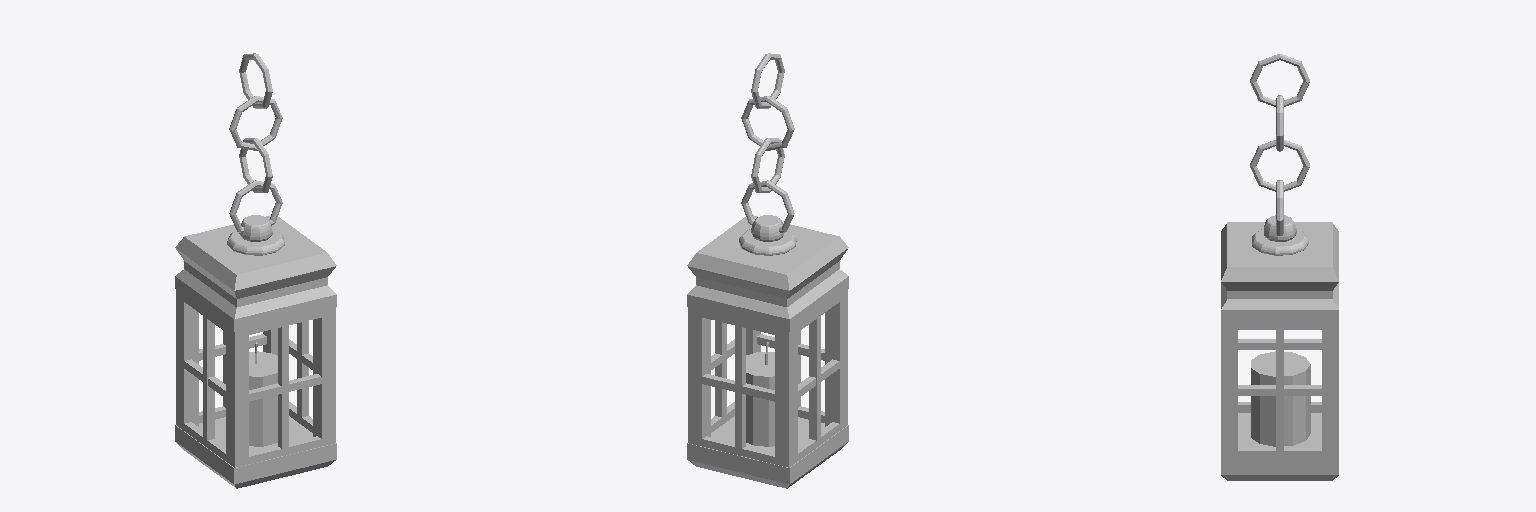
File: lantern.obj
3 views of the same model, side by side, from view 1: azimuth 30°, elevation 25°; view 2: azimuth 150°, elevation 25°; view 3: azimuth 270°, elevation 25° (orthographic).
Parts seen in each view (by area): view 1: Lanterns; view 2: Lanterns; view 3: Lanterns.
Part boxes in pixels (left/top/right/bottom): Lanterns: left=175, top=53, right=336, bottom=488; Lanterns: left=687, top=53, right=848, bottom=488; Lanterns: left=1221, top=54, right=1338, bottom=480.
Size of the model in its own units: 0.132 by 0.498 by 0.132.